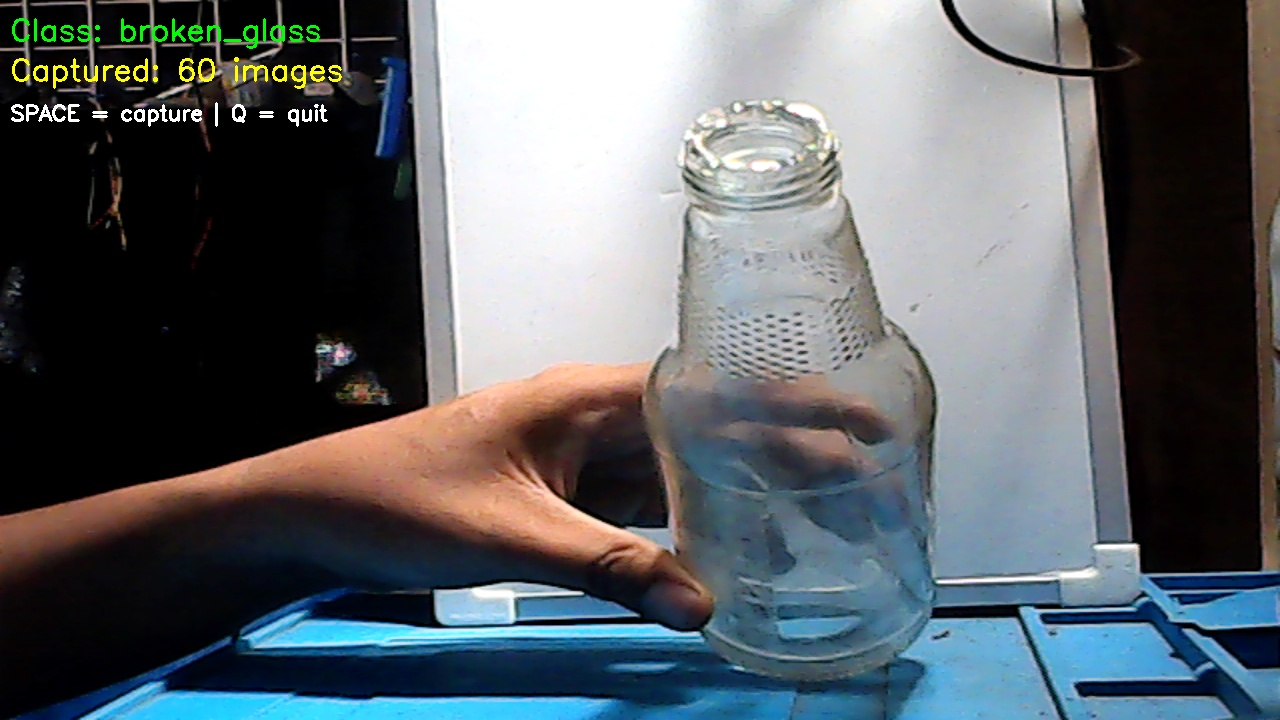broken_glass: (658, 78, 885, 385)
